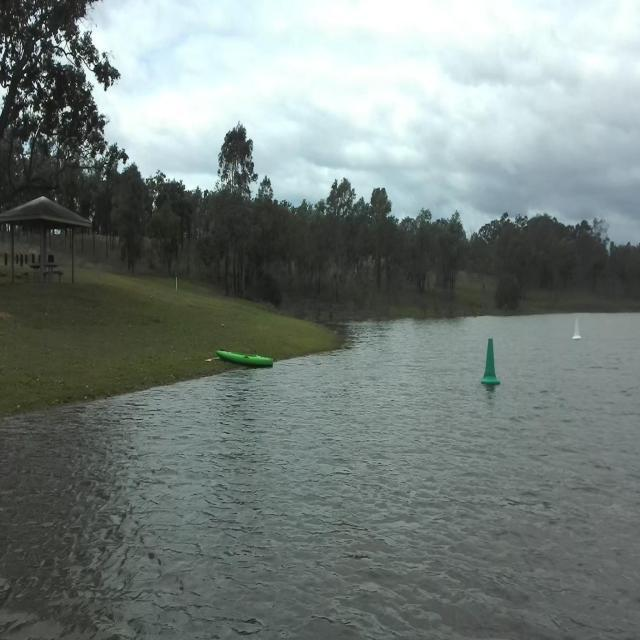Green_Buoy: (463, 338, 514, 398), (472, 339, 504, 388)
White_Buoy: (563, 314, 594, 350), (570, 322, 584, 346)
